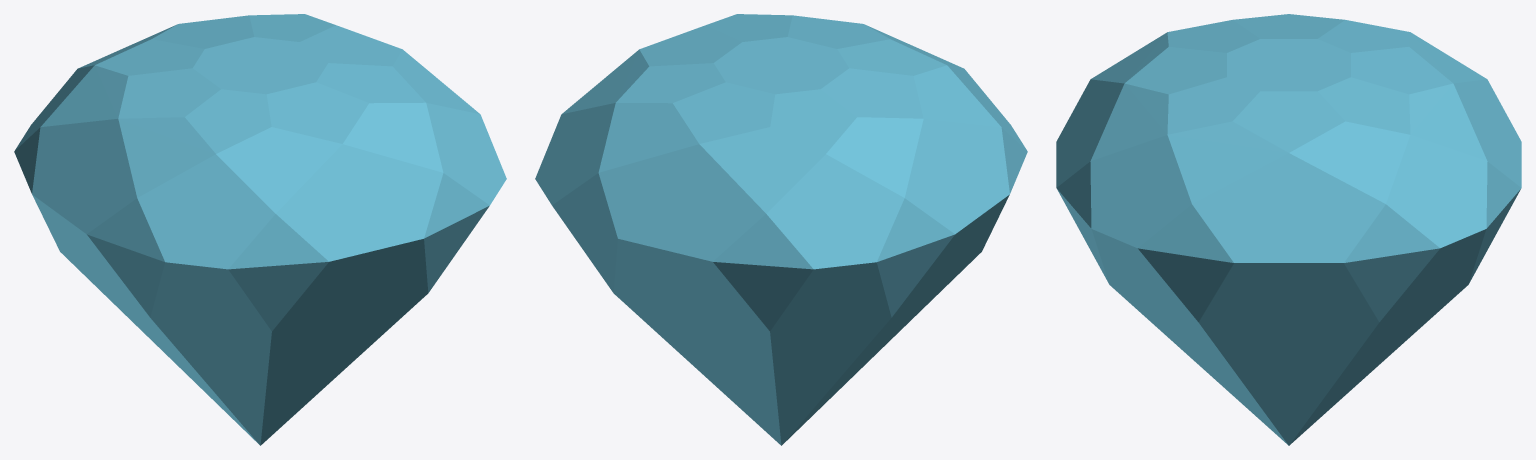
The model's file is diamond.glb.
3 renders of one model, left to right at view 1: azimuth 30°, elevation 25°; view 2: azimuth 150°, elevation 25°; view 3: azimuth 270°, elevation 25°, orthographic.
Visible parts, largest first — view 1: Cube; view 2: Cube; view 3: Cube.
Boxes of the visible parts, left/top/right/bottom form: Cube: left=14, top=14, right=506, bottom=445; Cube: left=535, top=14, right=1027, bottom=445; Cube: left=1056, top=14, right=1521, bottom=445.
Bounding box in the file's own units: 0.7638 × 0.69 × 0.7638.
